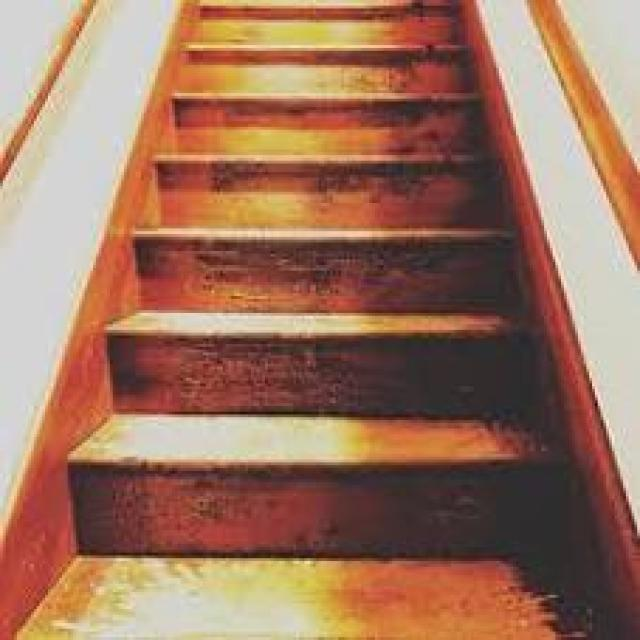stair: (51, 234, 581, 502)
